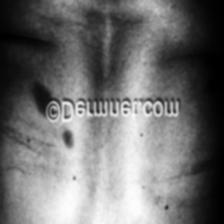Toxin: (29, 82, 48, 113), (60, 128, 76, 150), (207, 79, 220, 95)
